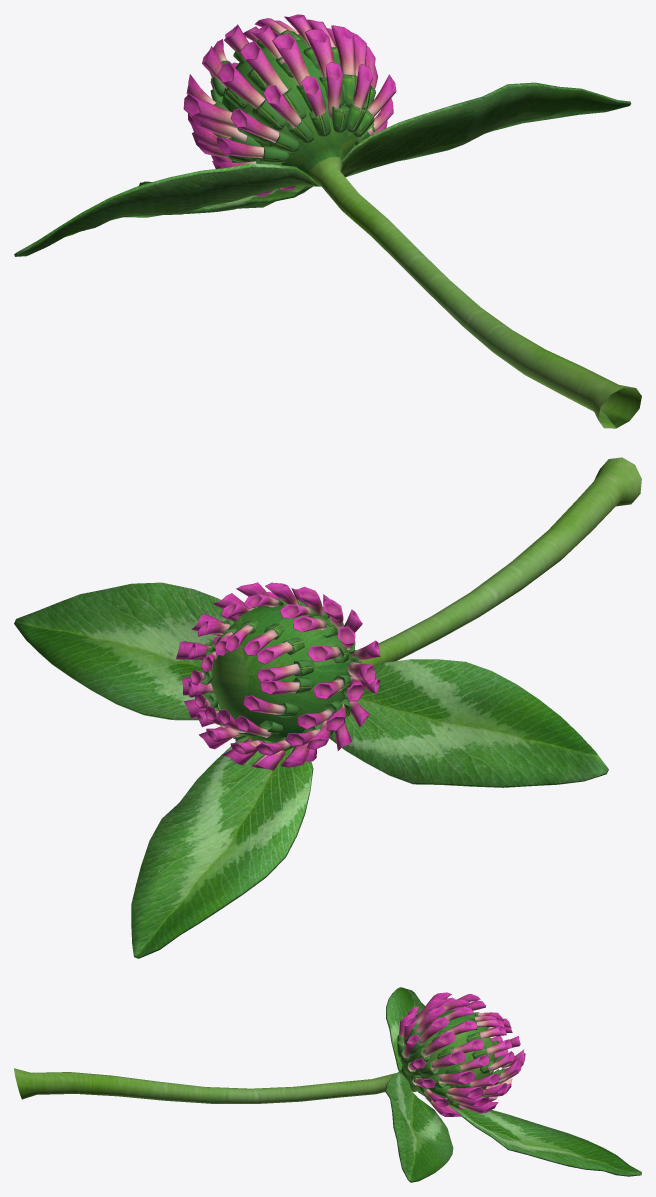
Rendered from klee_compressed.glb.
3 views of the same model, one above another, from view 1: azimuth 30°, elevation 25°; view 2: azimuth 150°, elevation 25°; view 3: azimuth 270°, elevation 25° (orthographic). The views are drawn at different scales.
Visible parts, largest first — view 1: klee; view 2: klee; view 3: klee.
Boxes of the visible parts, x1,y1,x2,y2 form: klee: (14,14,641,428); klee: (14,457,641,958); klee: (14,987,641,1182).
Bounding box in the file's own units: 0.8831 × 0.3699 × 1.23.
Materials: 4 (4 with a texture image).
